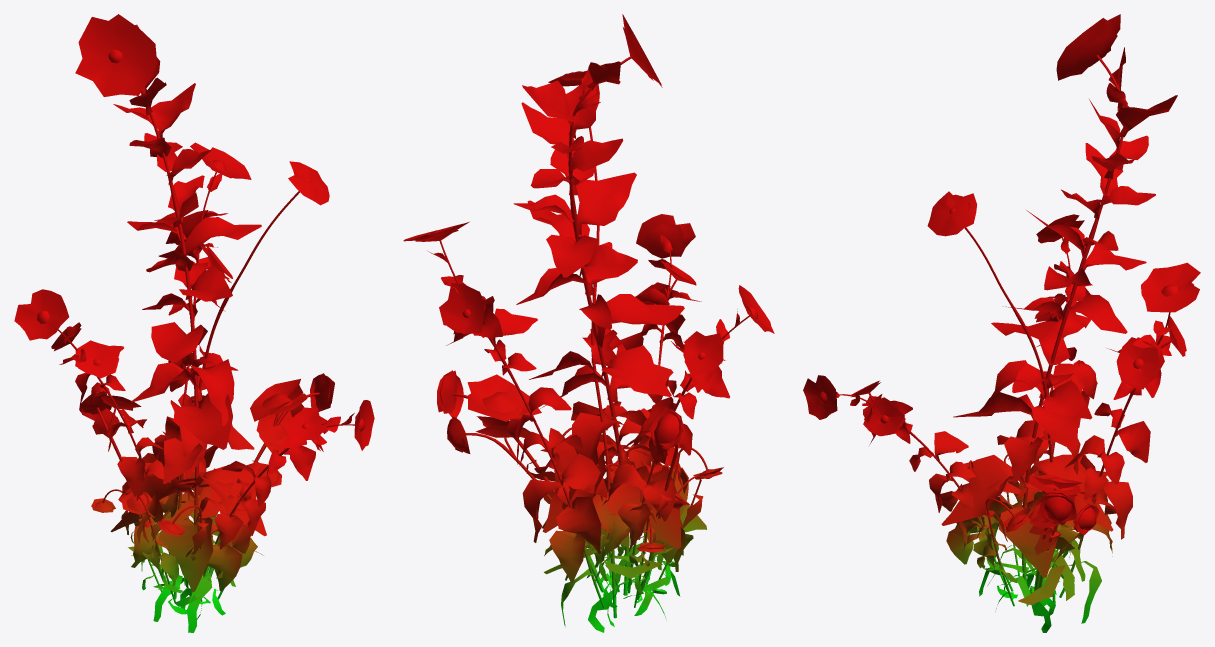
The model's file is Crownbeard_LOD0_Var3_tefoajkr.fbx.
3 views of the same model, side by side, from view 1: azimuth 30°, elevation 25°; view 2: azimuth 150°, elevation 25°; view 3: azimuth 270°, elevation 25° (orthographic). The views are drawn at different scales.
Parts seen in each view (by area): view 1: _7714_Var3_LOD0; view 2: _7714_Var3_LOD0; view 3: _7714_Var3_LOD0.
Boxes of the visible parts, box(x1,y1,x2,y2) form: _7714_Var3_LOD0: box(14, 14, 374, 632); _7714_Var3_LOD0: box(403, 14, 774, 632); _7714_Var3_LOD0: box(803, 14, 1200, 632).
Bounding box in the file's own units: 37.48 × 69.52 × 42.33.
